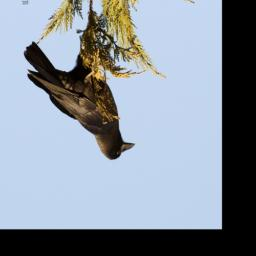Crow: (24, 36, 137, 164)
